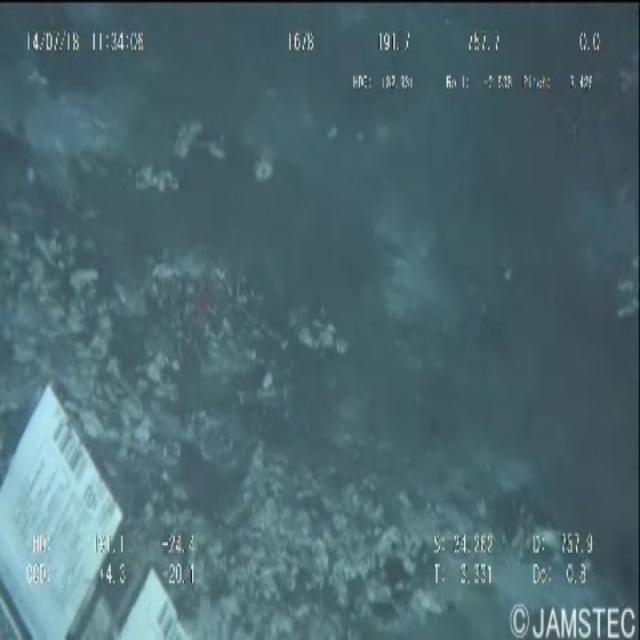Glass: (1, 365, 192, 640)
